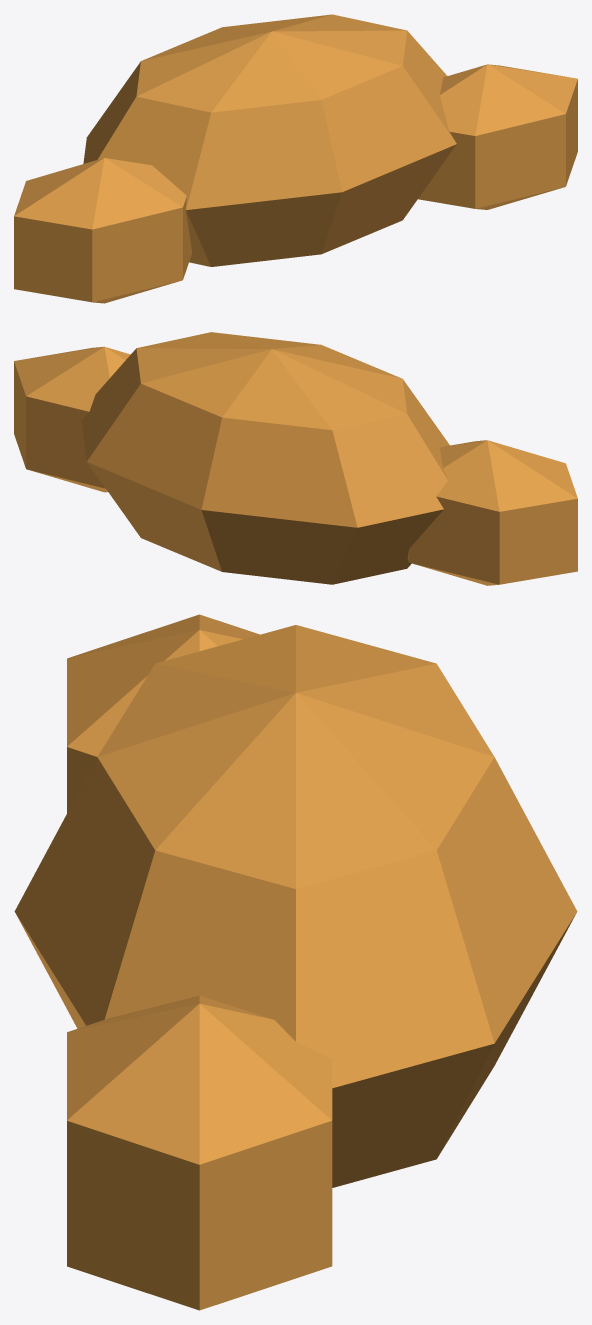
The model's file is croissant.obj.
The picture shows the model from 3 angles, top to bottom: view 1: azimuth 30°, elevation 25°; view 2: azimuth 150°, elevation 25°; view 3: azimuth 270°, elevation 25°; orthographic projection. The views are drawn at different scales.
Visible parts, largest first — view 1: croissant; view 2: croissant; view 3: croissant.
Part boxes in pixels (x1,y1,x2,y2): croissant: (14,14,577,303); croissant: (14,332,577,585); croissant: (14,614,577,1310).
Bounding box in the file's own units: 0.162 × 0.06 × 0.07.
